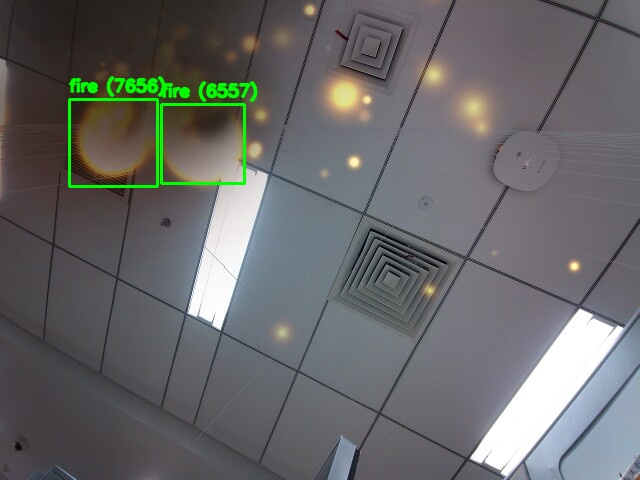fire: (69, 99, 157, 186), (161, 104, 244, 183)
